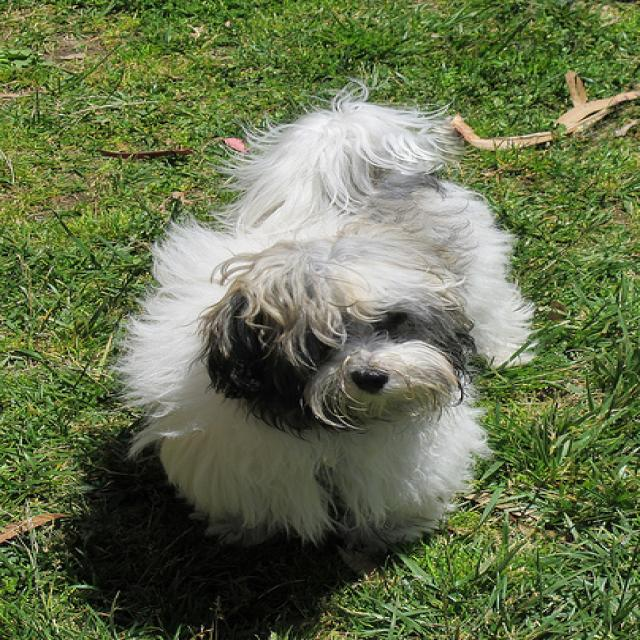dog-havanese: (111, 67, 551, 580)
